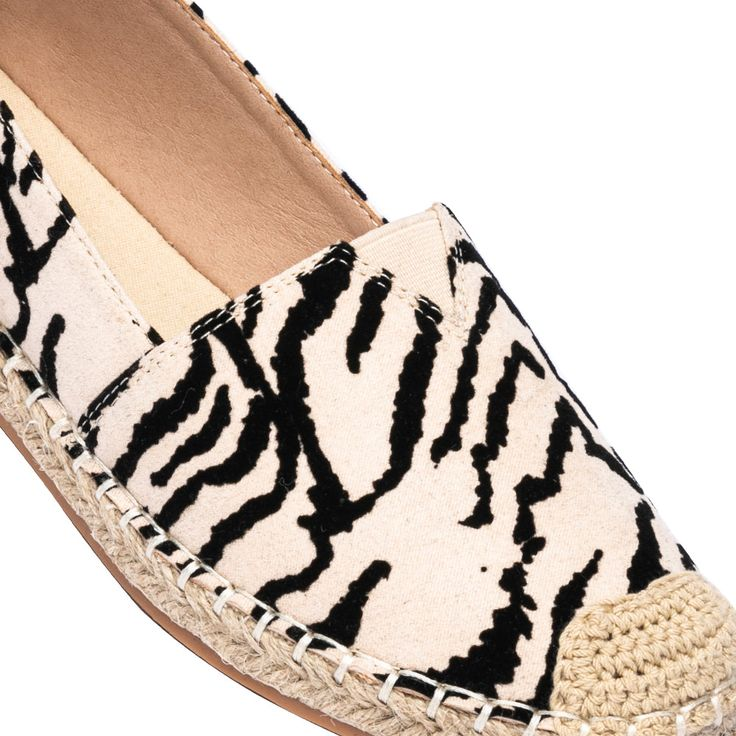gamuza: (1, 102, 706, 721)
